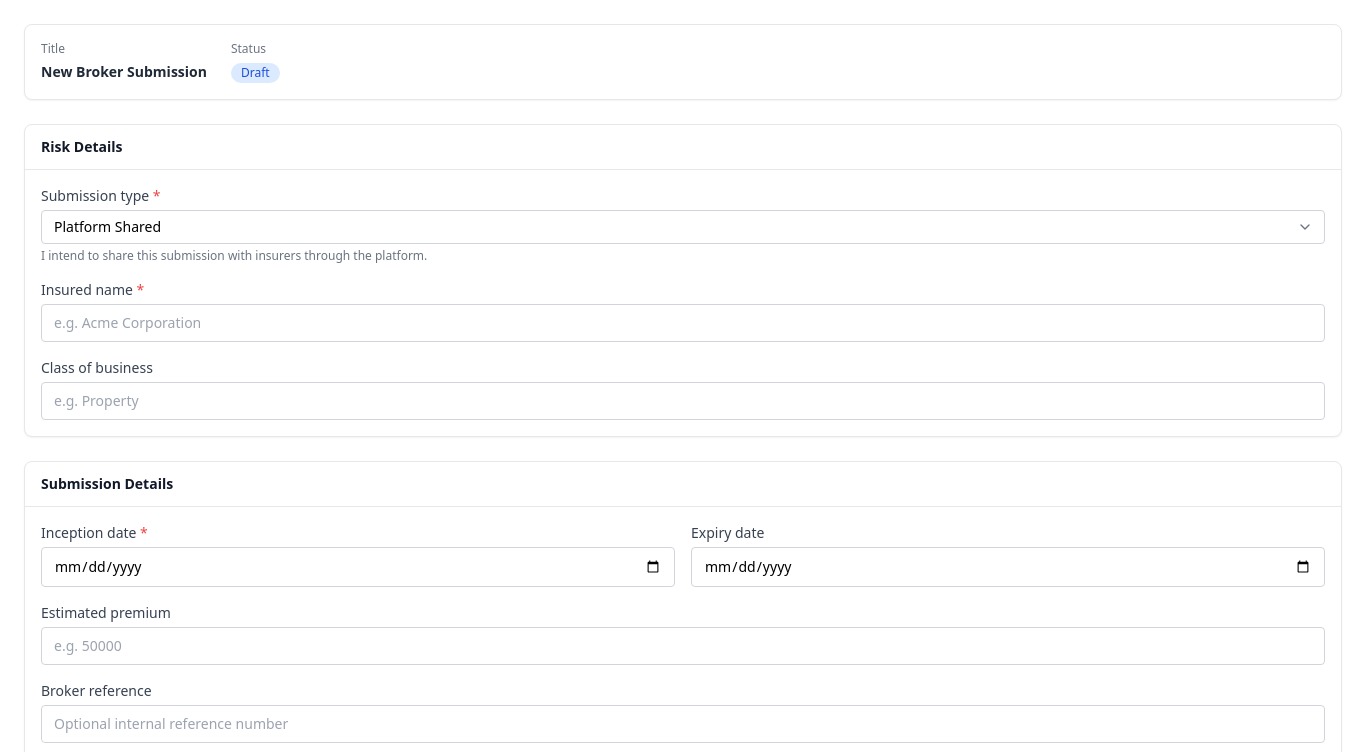
it: REQ-PSS-BRK-NEW-F-009 — Expiry >= inception validation › T-PSS-BRK-NEW-F009: shows a validation error when expiry date is set before inception date
In the date field labelled "Inception date *": (358, 567) [41,547,675,587], type "2026-06-01"
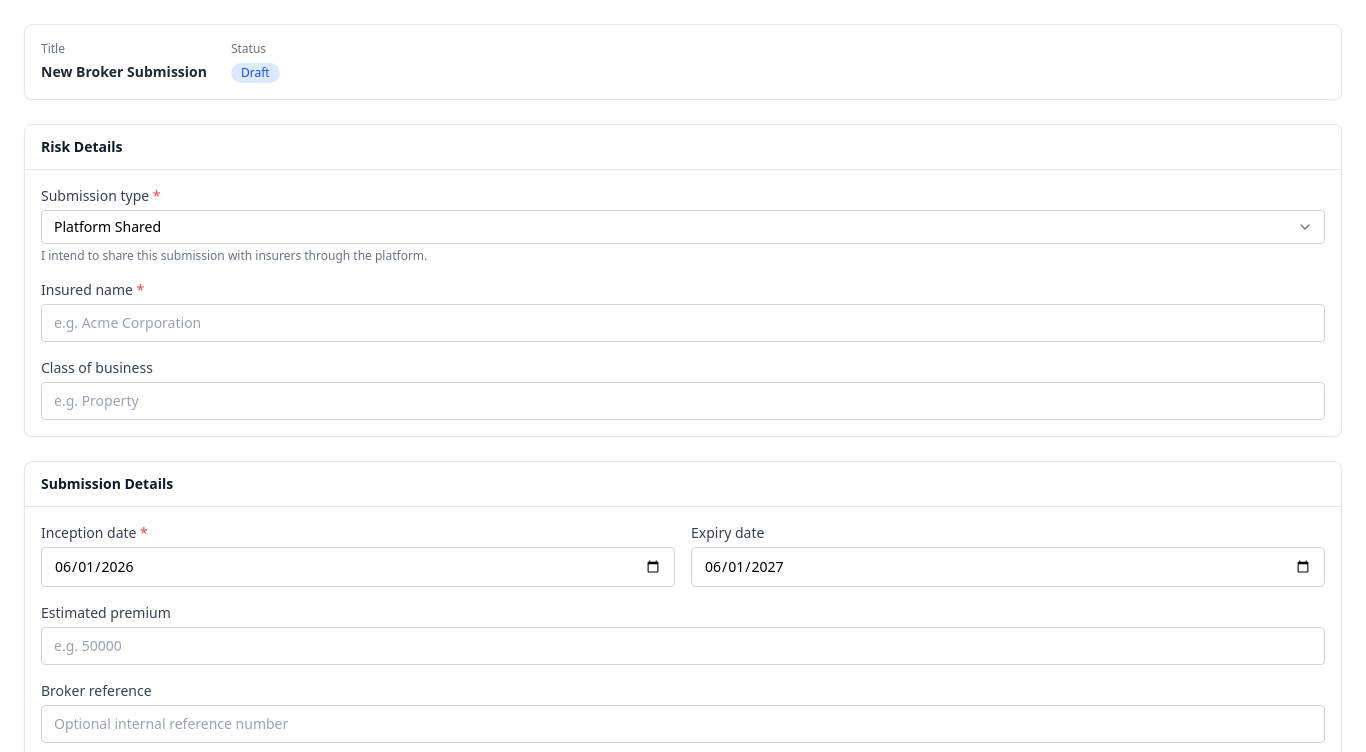
In the date field labelled "Expiry date": (1008, 567) [691,547,1325,587], type "2026-05-01"
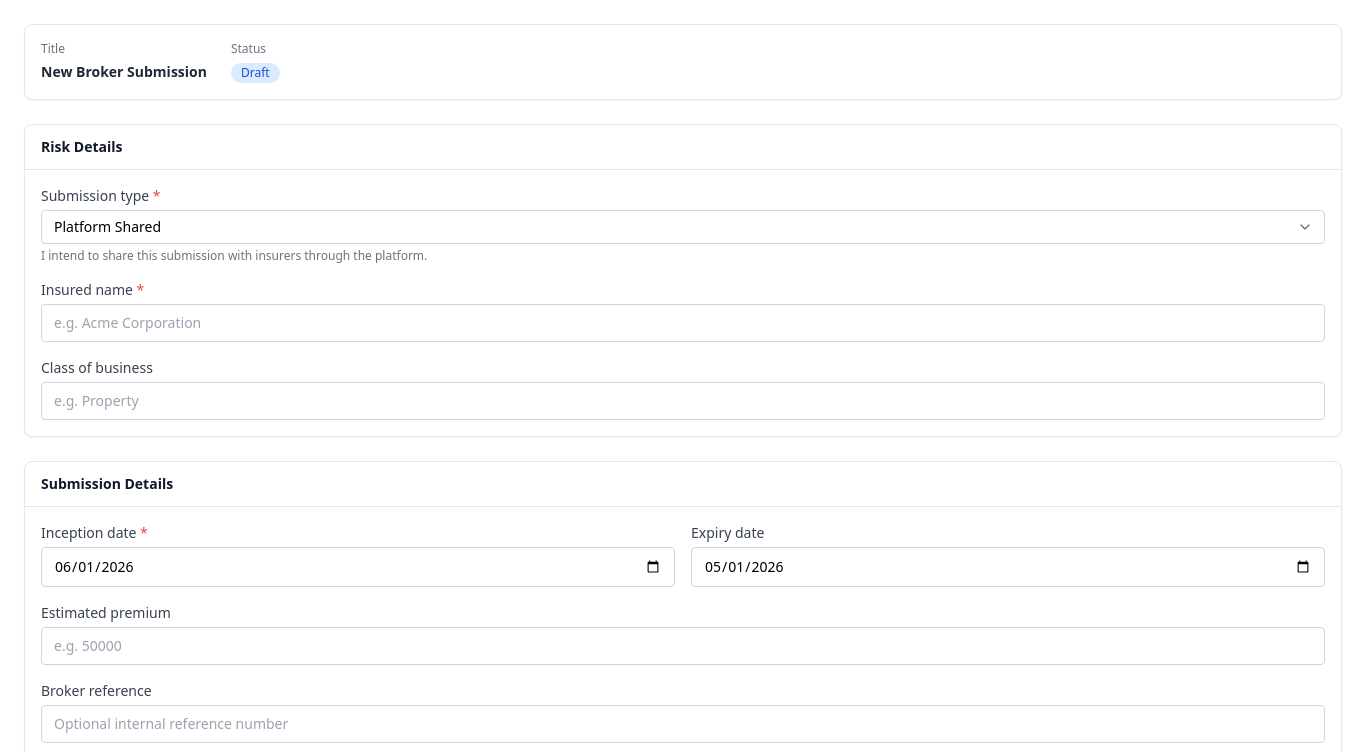
In the field labelled "Insured name *": (683, 323) [41,304,1325,342], type "Test Co"
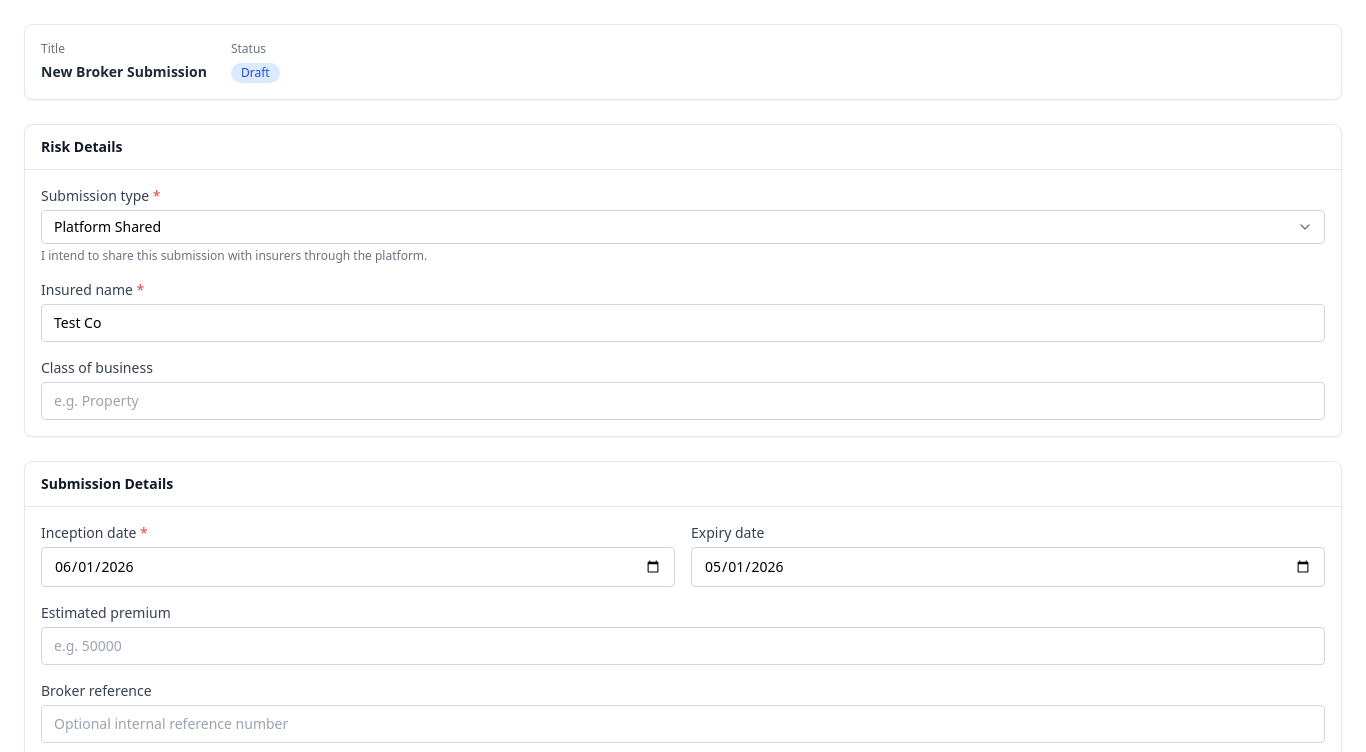
Clear the field labelled "Submission type *": (683, 227) [41,210,1325,244]
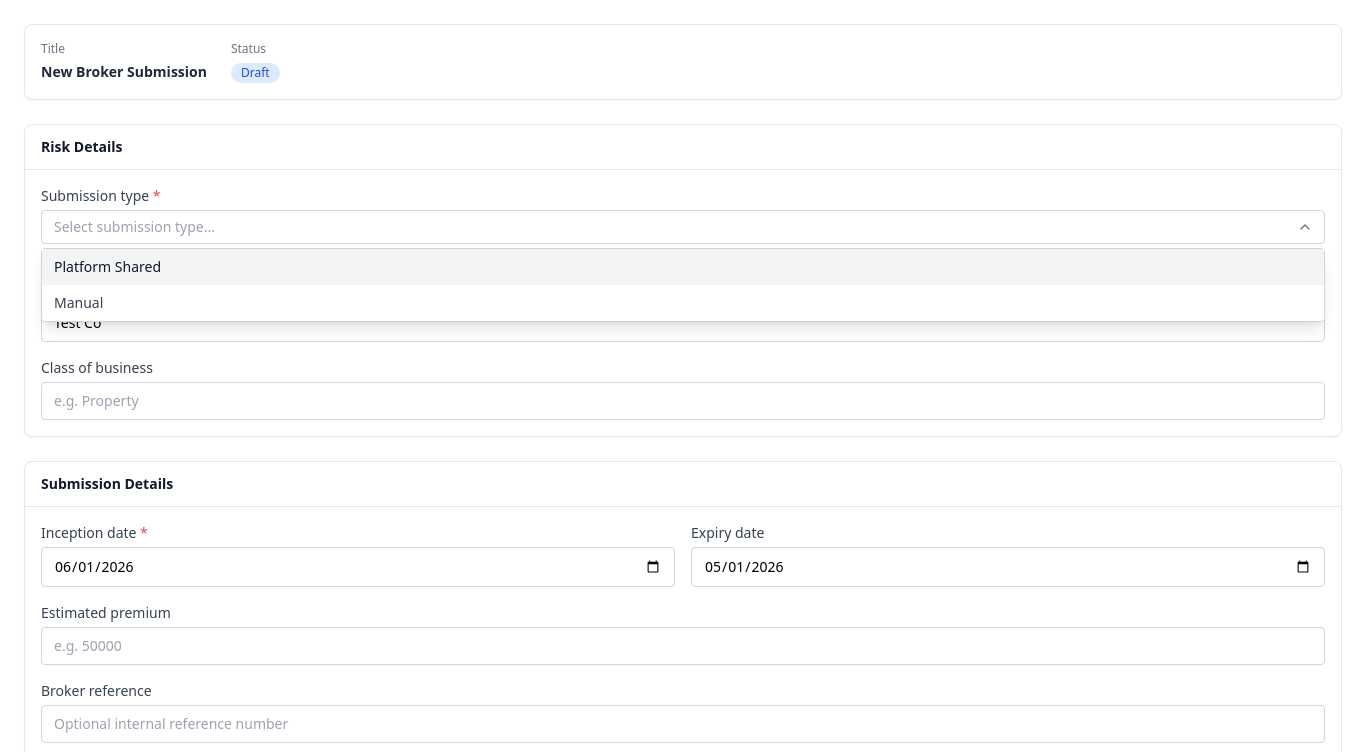
Click the button "Manual": (79, 302) [42,285,1324,321]
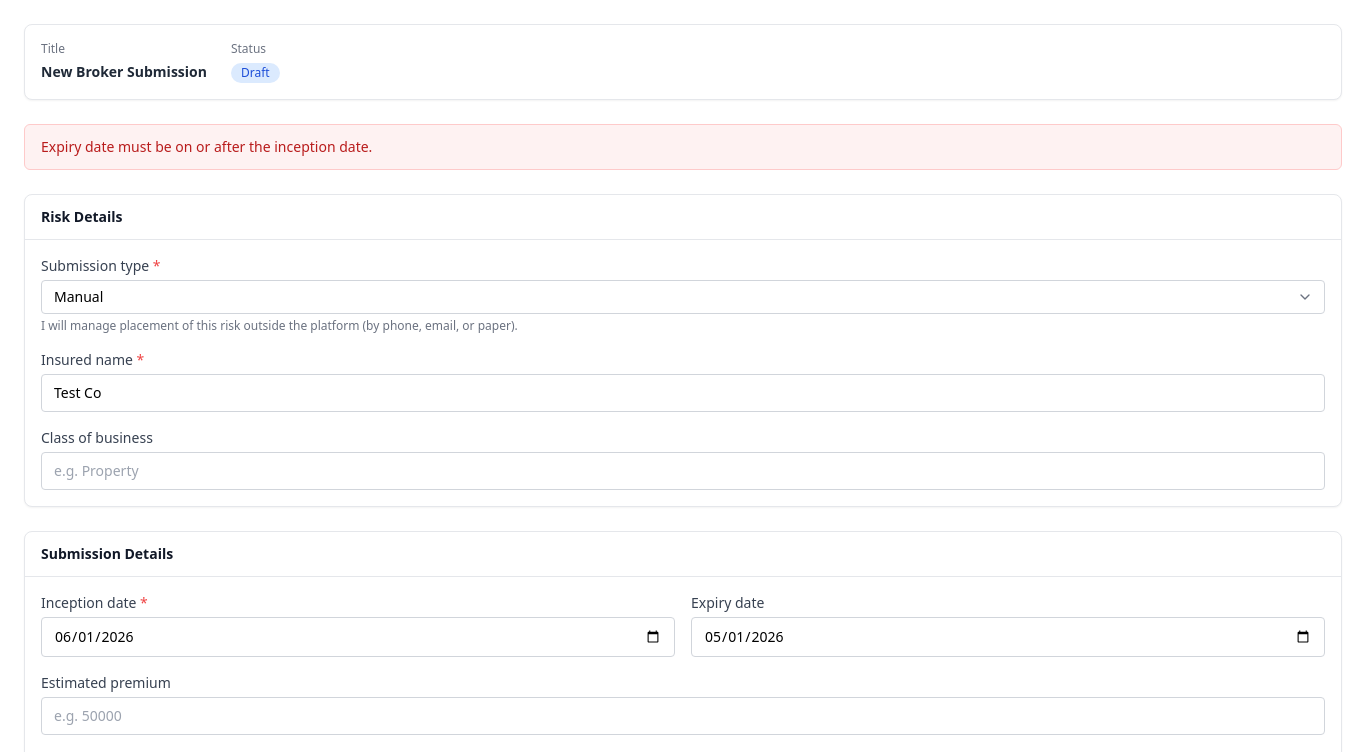
Now the message "Expiry date must be on or after the inception date." is shown, box [24,124,1342,170]
